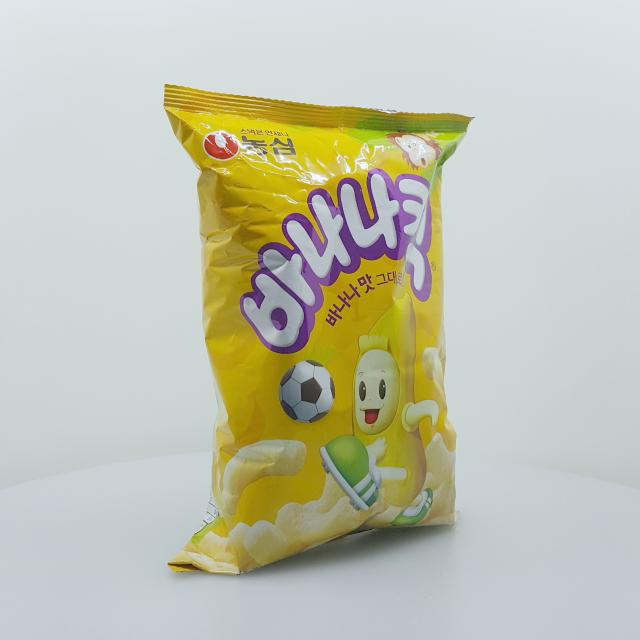-75G: (164, 84, 476, 576)
